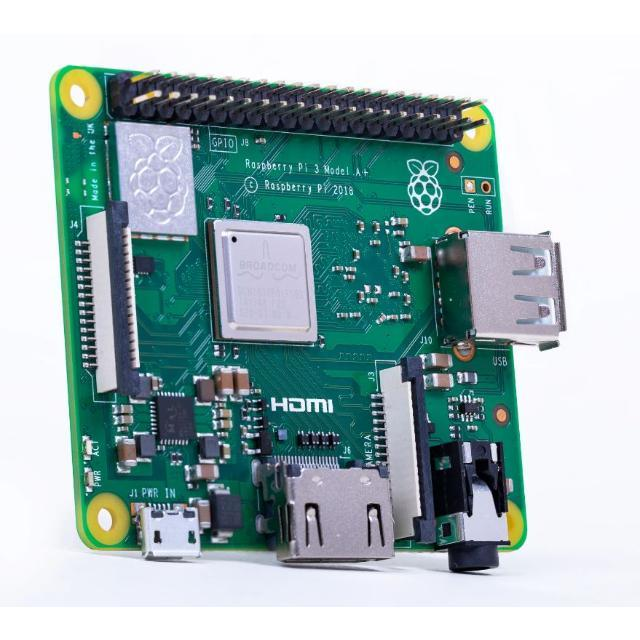Raspberry-Pi-3-A-: (52, 68, 566, 572)
